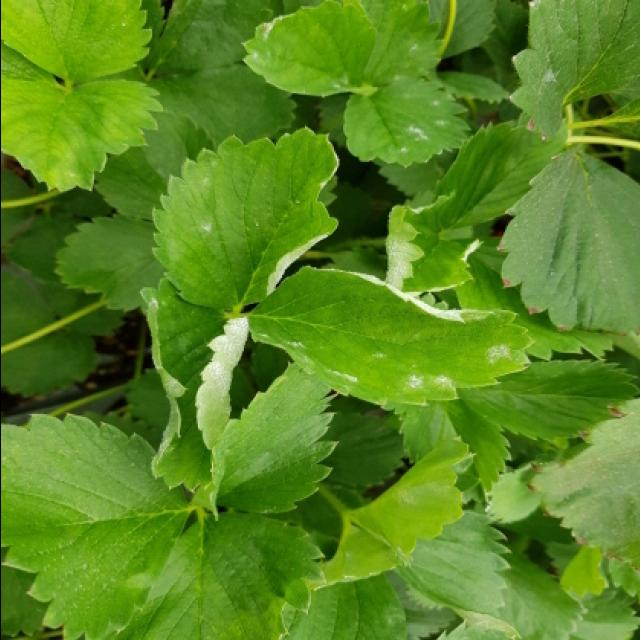Powdery Mildew Leaf: (246, 264, 535, 407), (150, 125, 338, 315), (138, 276, 248, 492), (345, 436, 479, 560), (238, 0, 379, 97), (341, 79, 472, 171), (383, 187, 486, 297), (359, 0, 446, 94)
